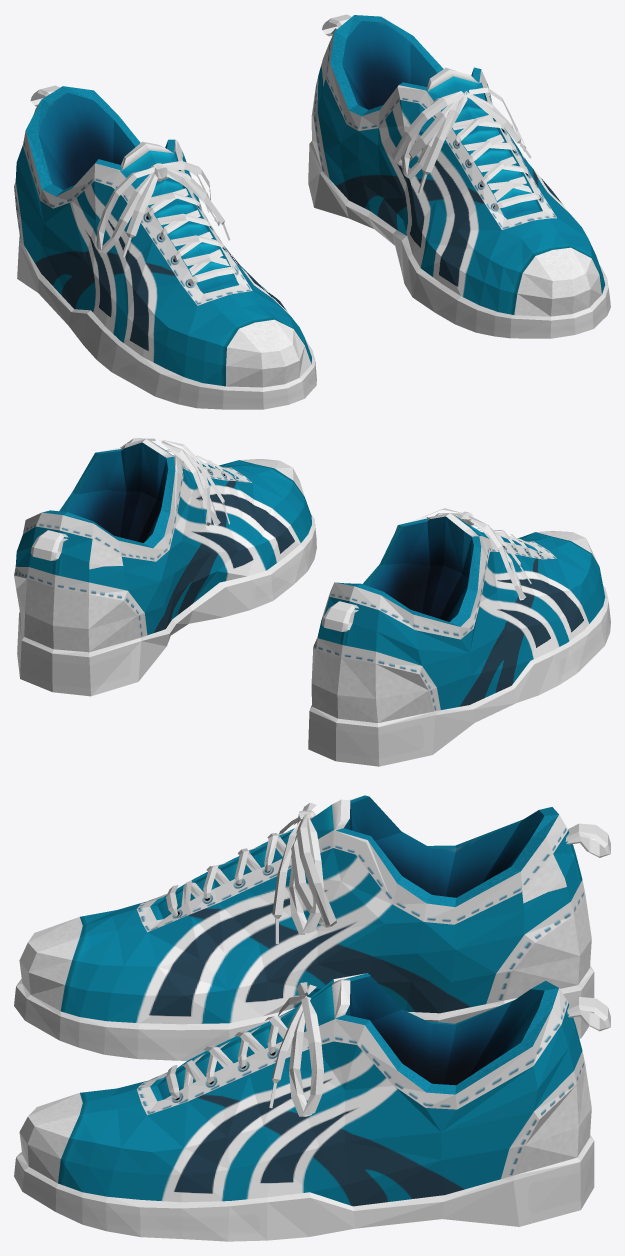
The model's file is Tennis2.glb.
The picture shows the model from 3 angles, top to bottom: view 1: azimuth 30°, elevation 25°; view 2: azimuth 150°, elevation 25°; view 3: azimuth 270°, elevation 25°; orthographic projection. The views are drawn at different scales.
Bounding box in the file's own units: 0.3059 × 0.1098 × 0.2786.
Materials: 2 (2 with a texture image).
